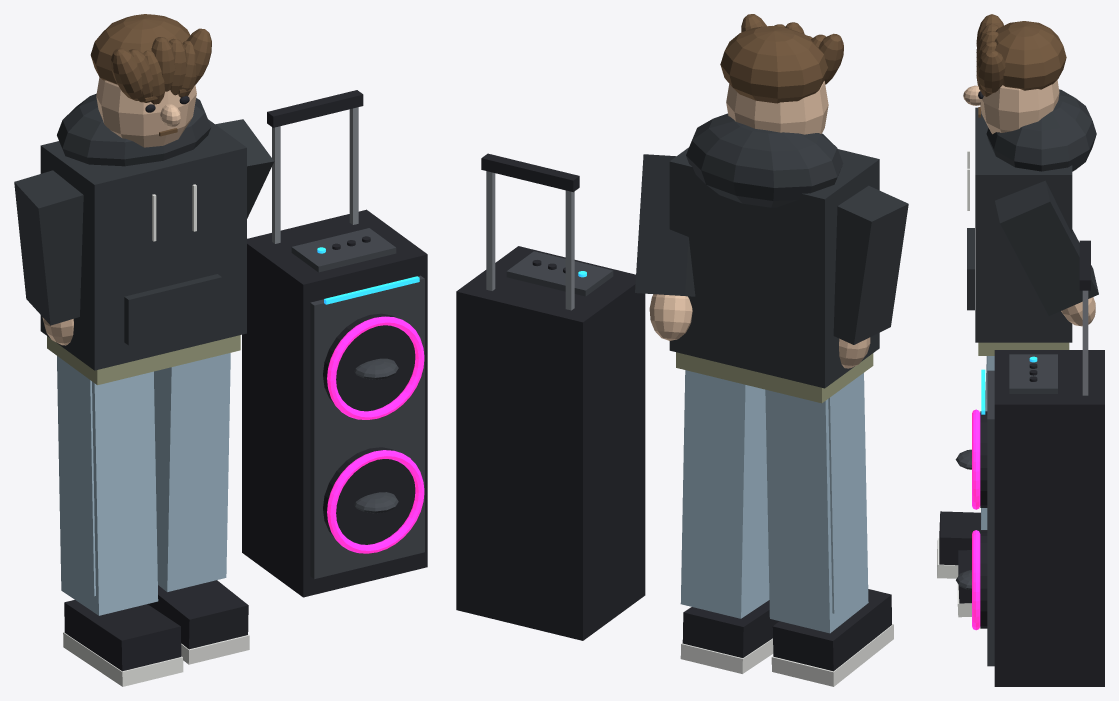
Rendered from tiki-performer.glb.
3 views of the same model, side by side, from view 1: azimuth 30°, elevation 25°; view 2: azimuth 150°, elevation 25°; view 3: azimuth 270°, elevation 25° (orthographic). The views are drawn at different scales.
Visible parts, largest first — view 1: Blue LED strip, Bunched hood, Denim leg, Denim leg.001, Brow, Hand, Hand.001; view 2: Blue LED strip, Bunched hood, Denim leg, Denim leg.001, Brow, Hand, Hand.001; view 3: Blue LED strip, Bunched hood, Brow, Hand.001, Denim leg, Denim leg.001.
Boxes of the visible parts, left/top/right/bottom form: Blue LED strip: left=242, top=90, right=427, bottom=597; Bunched hood: left=40, top=93, right=246, bottom=385; Denim leg: left=57, top=356, right=183, bottom=686; Denim leg.001: left=148, top=353, right=249, bottom=664; Brow: left=90, top=14, right=211, bottom=147; Hand: left=14, top=170, right=83, bottom=345; Hand.001: left=215, top=119, right=274, bottom=218; Blue LED strip: left=456, top=153, right=645, bottom=640; Bunched hood: left=669, top=113, right=879, bottom=403; Denim leg: left=765, top=373, right=893, bottom=686; Denim leg.001: left=680, top=370, right=778, bottom=673; Brow: left=720, top=14, right=843, bottom=134; Hand: left=833, top=185, right=908, bottom=368; Hand.001: left=635, top=154, right=695, bottom=340; Blue LED strip: left=955, top=240, right=1104, bottom=686; Bunched hood: left=967, top=89, right=1096, bottom=355; Brow: left=963, top=14, right=1066, bottom=134; Hand.001: left=995, top=180, right=1098, bottom=326; Denim leg: left=937, top=356, right=990, bottom=578; Denim leg.001: left=957, top=356, right=994, bottom=617.
Bounding box in the file's own units: 1.24 × 1.91 × 0.5175.
